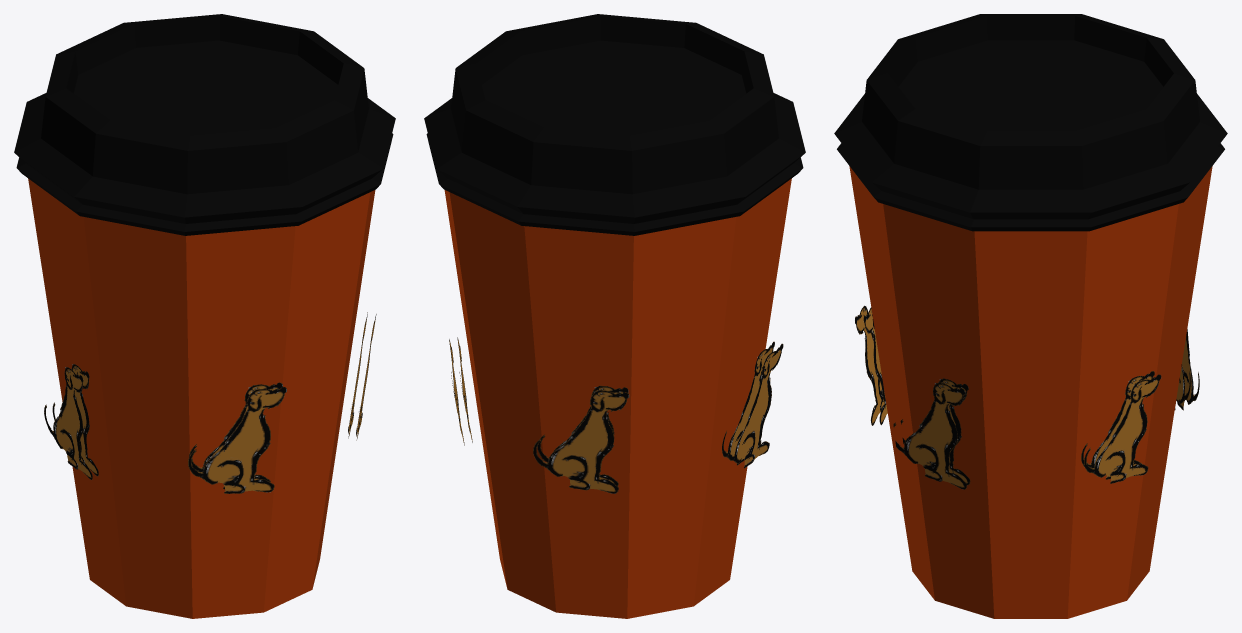
File: puppiccino.fbx
The picture shows the model from 3 angles, left to right: view 1: azimuth 30°, elevation 25°; view 2: azimuth 150°, elevation 25°; view 3: azimuth 270°, elevation 25°; orthographic projection.
Visible parts, largest first — view 1: Circle; view 2: Circle; view 3: Circle.
Part boxes in pixels (x1=…): Circle: x1=14, y1=14, x2=395, y2=618; Circle: x1=424, y1=14, x2=805, y2=618; Circle: x1=834, y1=14, x2=1227, y2=618.
Size of the model in its own units: 271 by 400 by 285.
